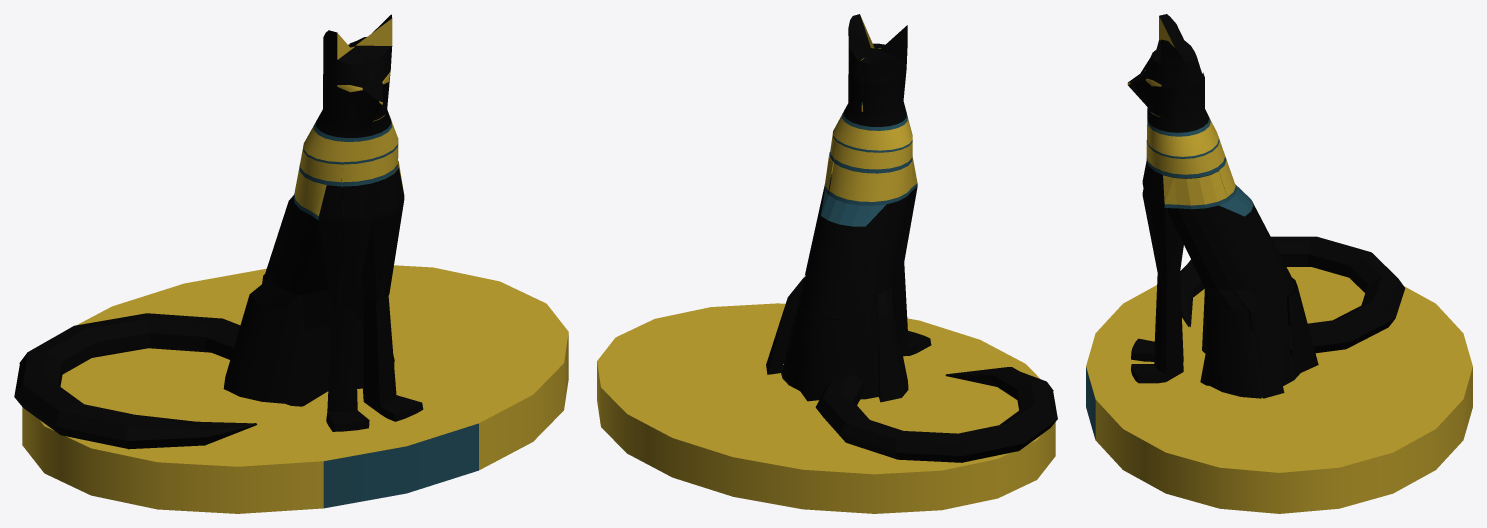
The model's file is Egyptian_Cat_Statue_Broken.fbx.
3 renders of one model, left to right at view 1: azimuth 30°, elevation 25°; view 2: azimuth 150°, elevation 25°; view 3: azimuth 270°, elevation 25°, orthographic. The views are drawn at different scales.
Visible parts, largest first — view 1: pCylinder2, polySurface3, polySurface2, polySurface7, polySurface10, polySurface1, polySurface11, polySurface5, polySurface4, polySurface12, polySurface6, polySurface9; view 2: pCylinder2, polySurface2, polySurface3, polySurface7, polySurface10, polySurface11, polySurface6, polySurface4, polySurface12; view 3: pCylinder2, polySurface1, polySurface2, polySurface8, polySurface10, polySurface3, polySurface6, polySurface7, polySurface5, polySurface11, polySurface9, polySurface12 (+1 smaller).
Part boxes in pixels (x1,y1,x2,y2): pCylinder2: [22, 265, 568, 513]; polySurface3: [223, 271, 363, 406]; polySurface2: [265, 145, 358, 308]; polySurface7: [303, 30, 398, 162]; polySurface10: [19, 313, 240, 374]; polySurface1: [340, 154, 404, 308]; polySurface11: [14, 351, 132, 448]; polySurface5: [363, 293, 423, 421]; polySurface4: [326, 300, 369, 431]; polySurface12: [126, 414, 257, 449]; polySurface6: [349, 14, 392, 120]; polySurface9: [341, 140, 398, 186]; pCylinder2: [597, 303, 1055, 513]; polySurface2: [782, 140, 917, 383]; polySurface3: [766, 276, 908, 402]; polySurface7: [833, 25, 912, 150]; polySurface10: [815, 374, 964, 462]; polySurface11: [959, 381, 1057, 462]; polySurface6: [848, 14, 884, 112]; polySurface4: [893, 261, 931, 356]; polySurface12: [945, 367, 1053, 399]; pCylinder2: [1086, 267, 1472, 513]; polySurface1: [1142, 161, 1246, 290]; polySurface2: [1151, 136, 1295, 384]; polySurface8: [1200, 287, 1261, 398]; polySurface10: [1288, 252, 1405, 356]; polySurface3: [1202, 253, 1318, 398]; polySurface6: [1132, 39, 1204, 119]; polySurface7: [1127, 14, 1218, 156]; polySurface5: [1131, 275, 1183, 383]; polySurface11: [1271, 236, 1369, 277]; polySurface9: [1146, 140, 1218, 178]; polySurface12: [1180, 259, 1204, 327].
Bounding box in the file's own units: 11.24 × 9.21 × 8.5.
